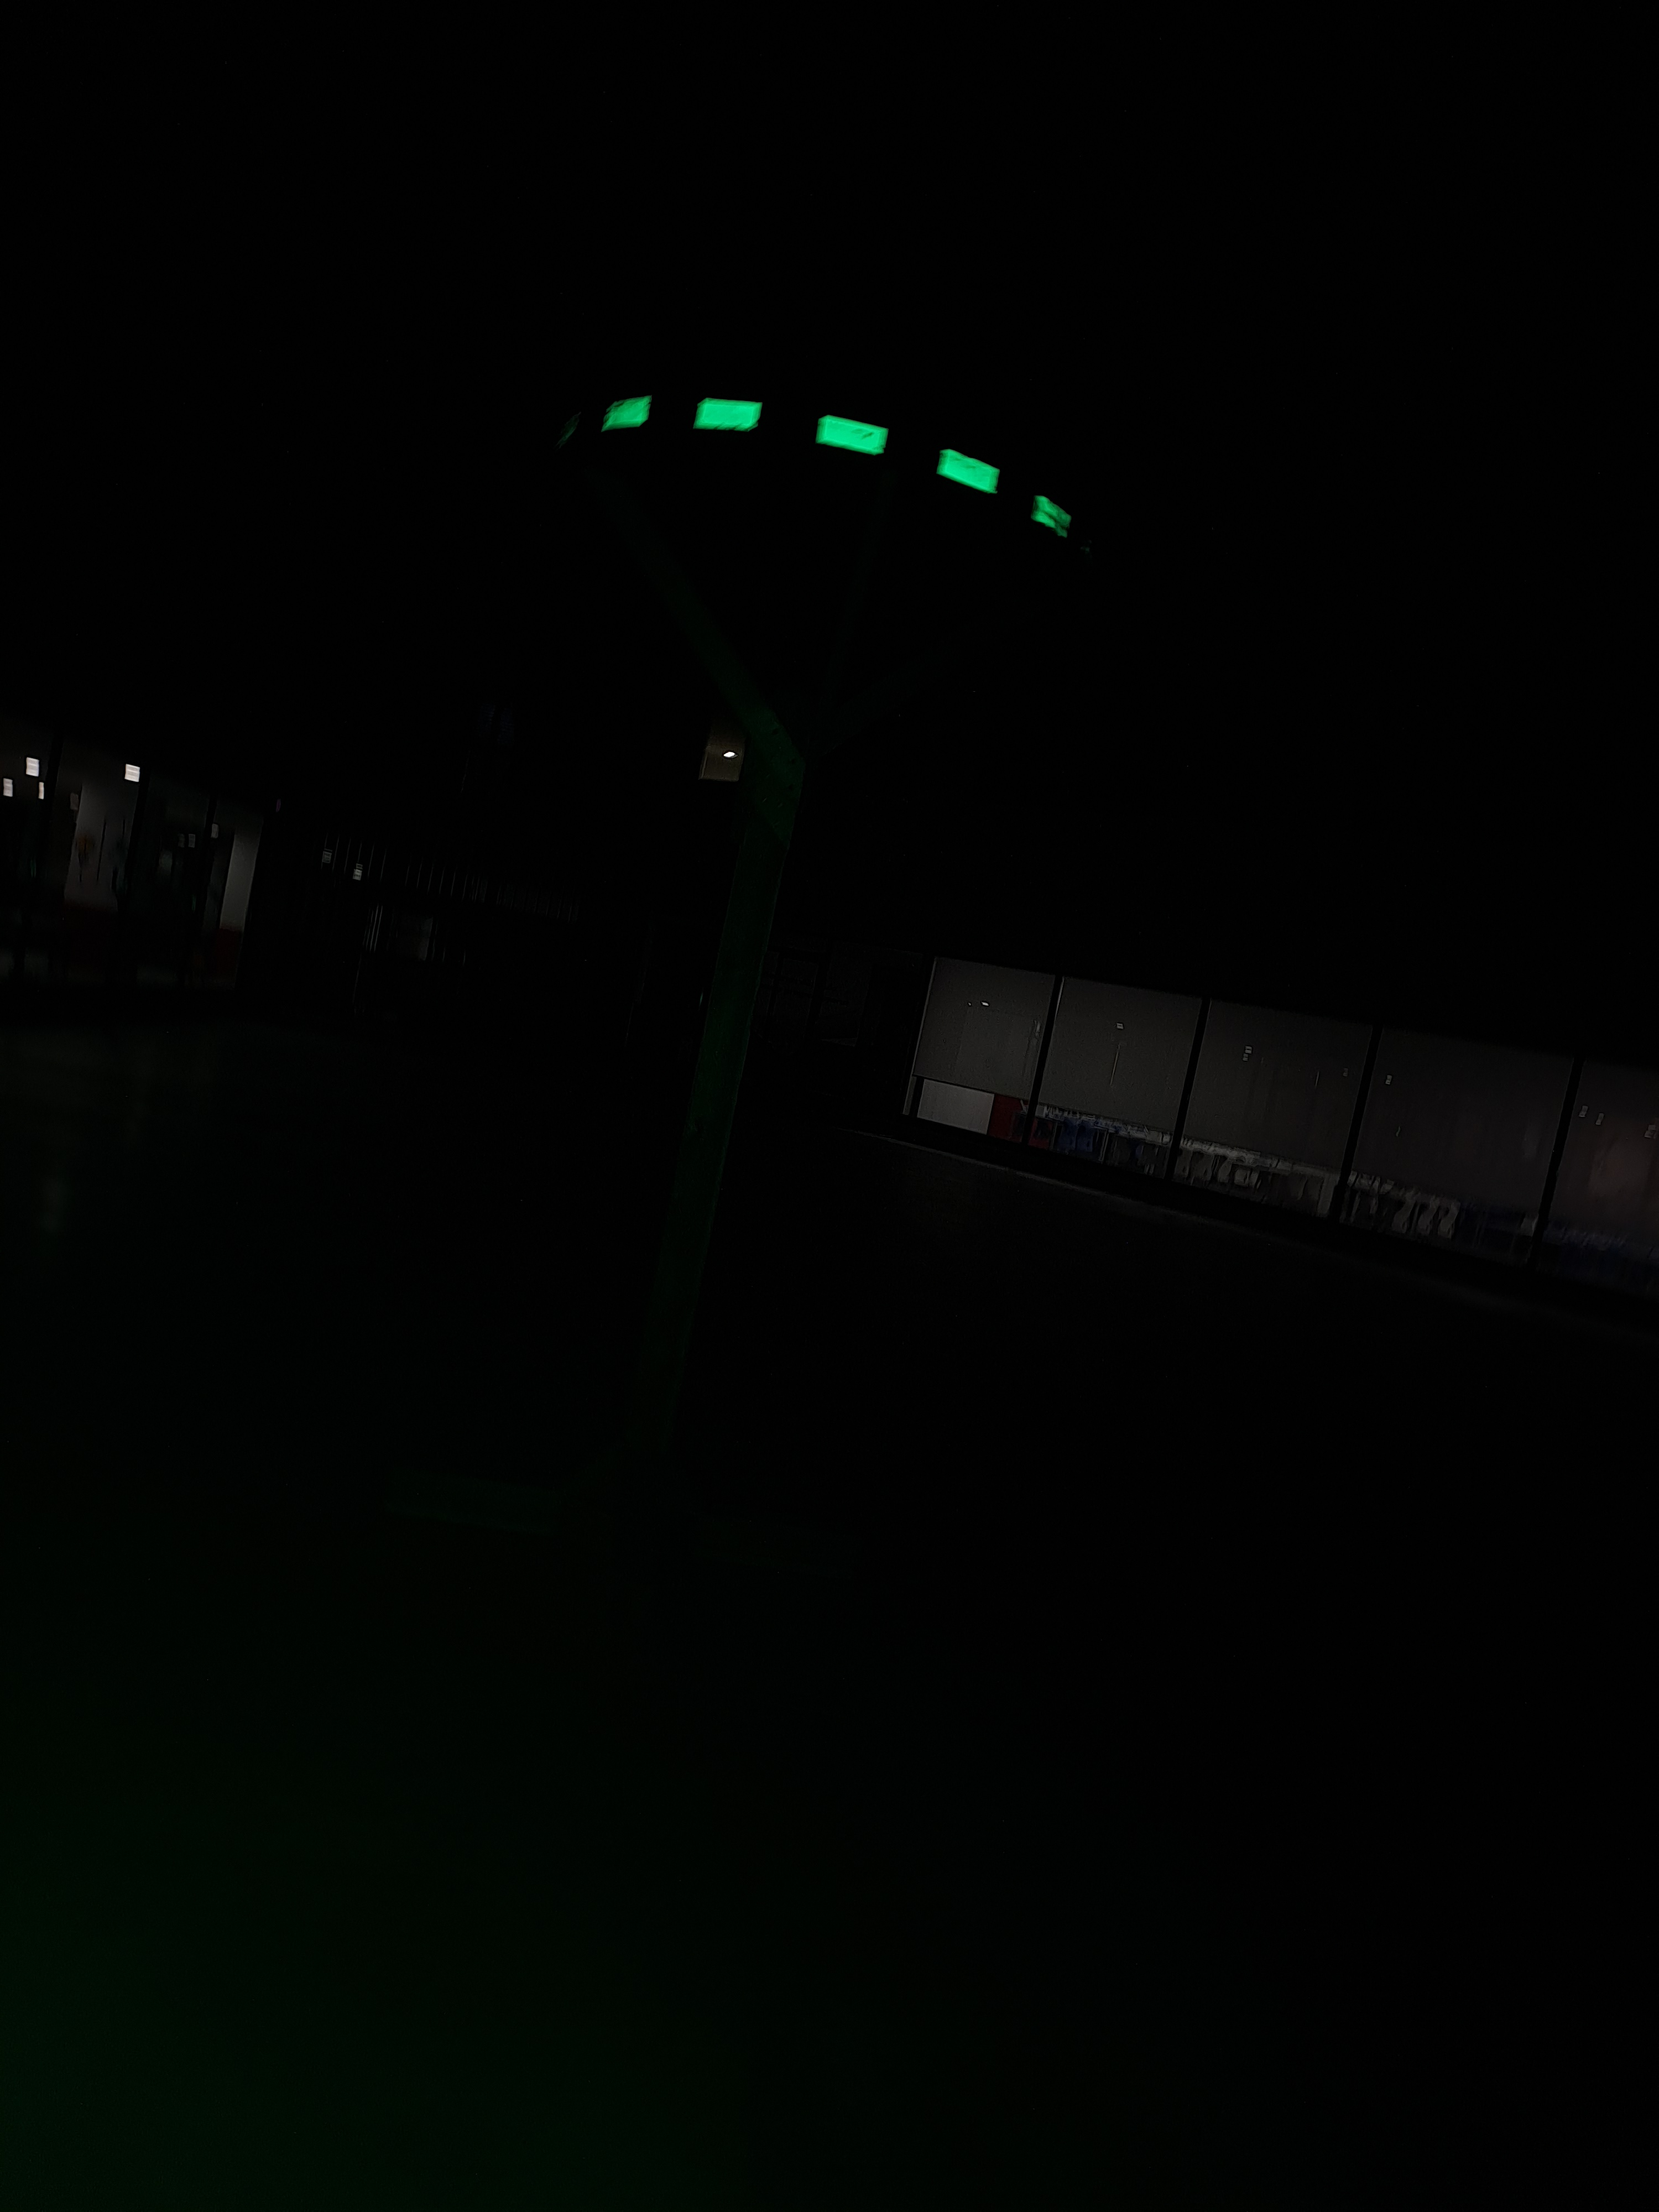hoop: (601, 378, 1073, 554)
